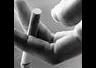Cigarette: (20, 7, 42, 68)
